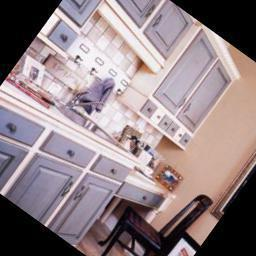Lavaplatos: (44, 80, 145, 170)
